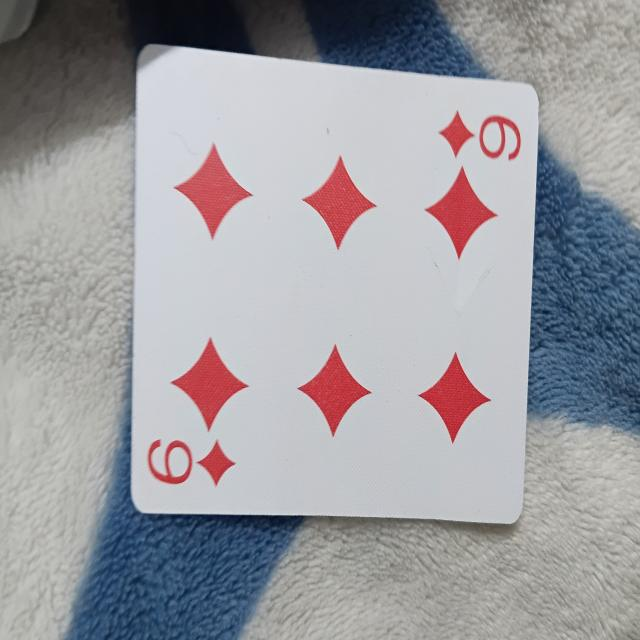6D: (134, 50, 526, 528)
